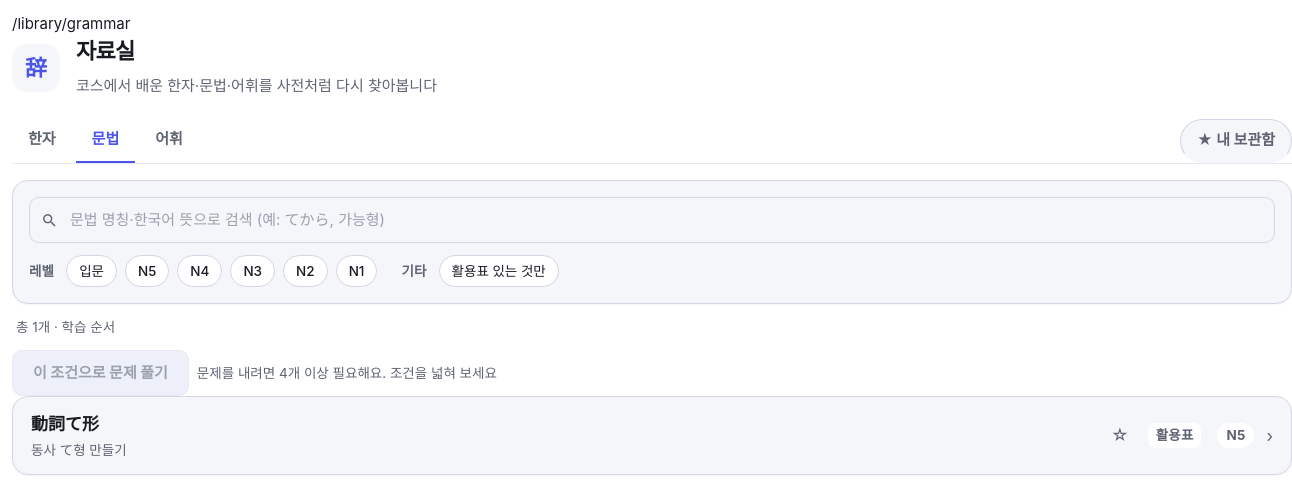
LibraryGrammarPage — 목록 (설계/05 §7) › '활용표 있는 것만' 토글이 주소와 API 파라미터에 반영된다
Expected: the text "動詞て形" is shown, [31,414,99,434]
Step 1. Click the button "활용표 있는 것만" → (499, 271), box [439,255,559,287]
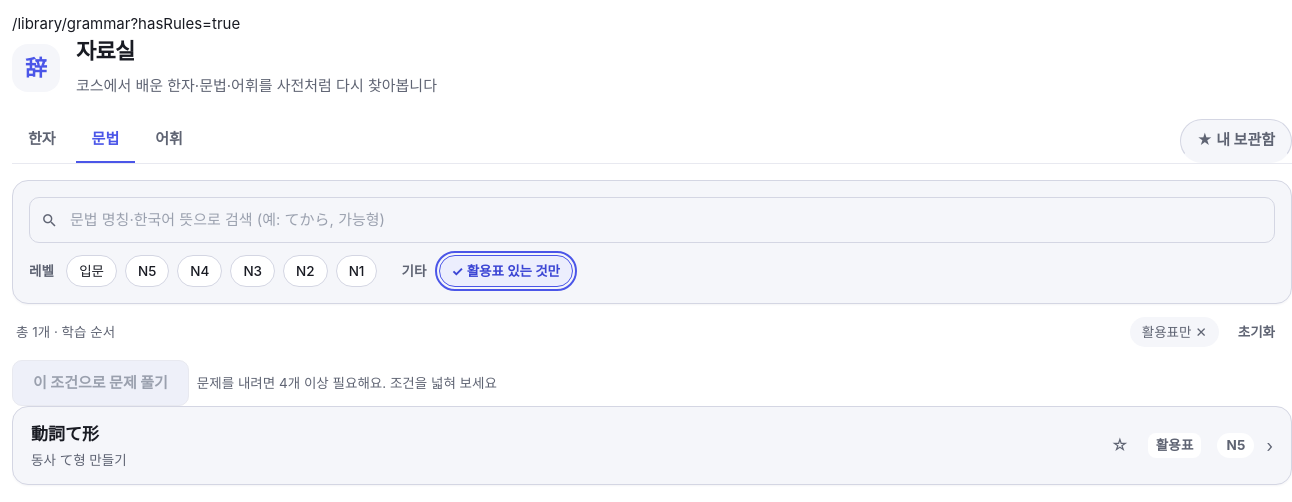
Result: the text with test id "location" shows "?hasRules=true" at [130,14,240,33]
